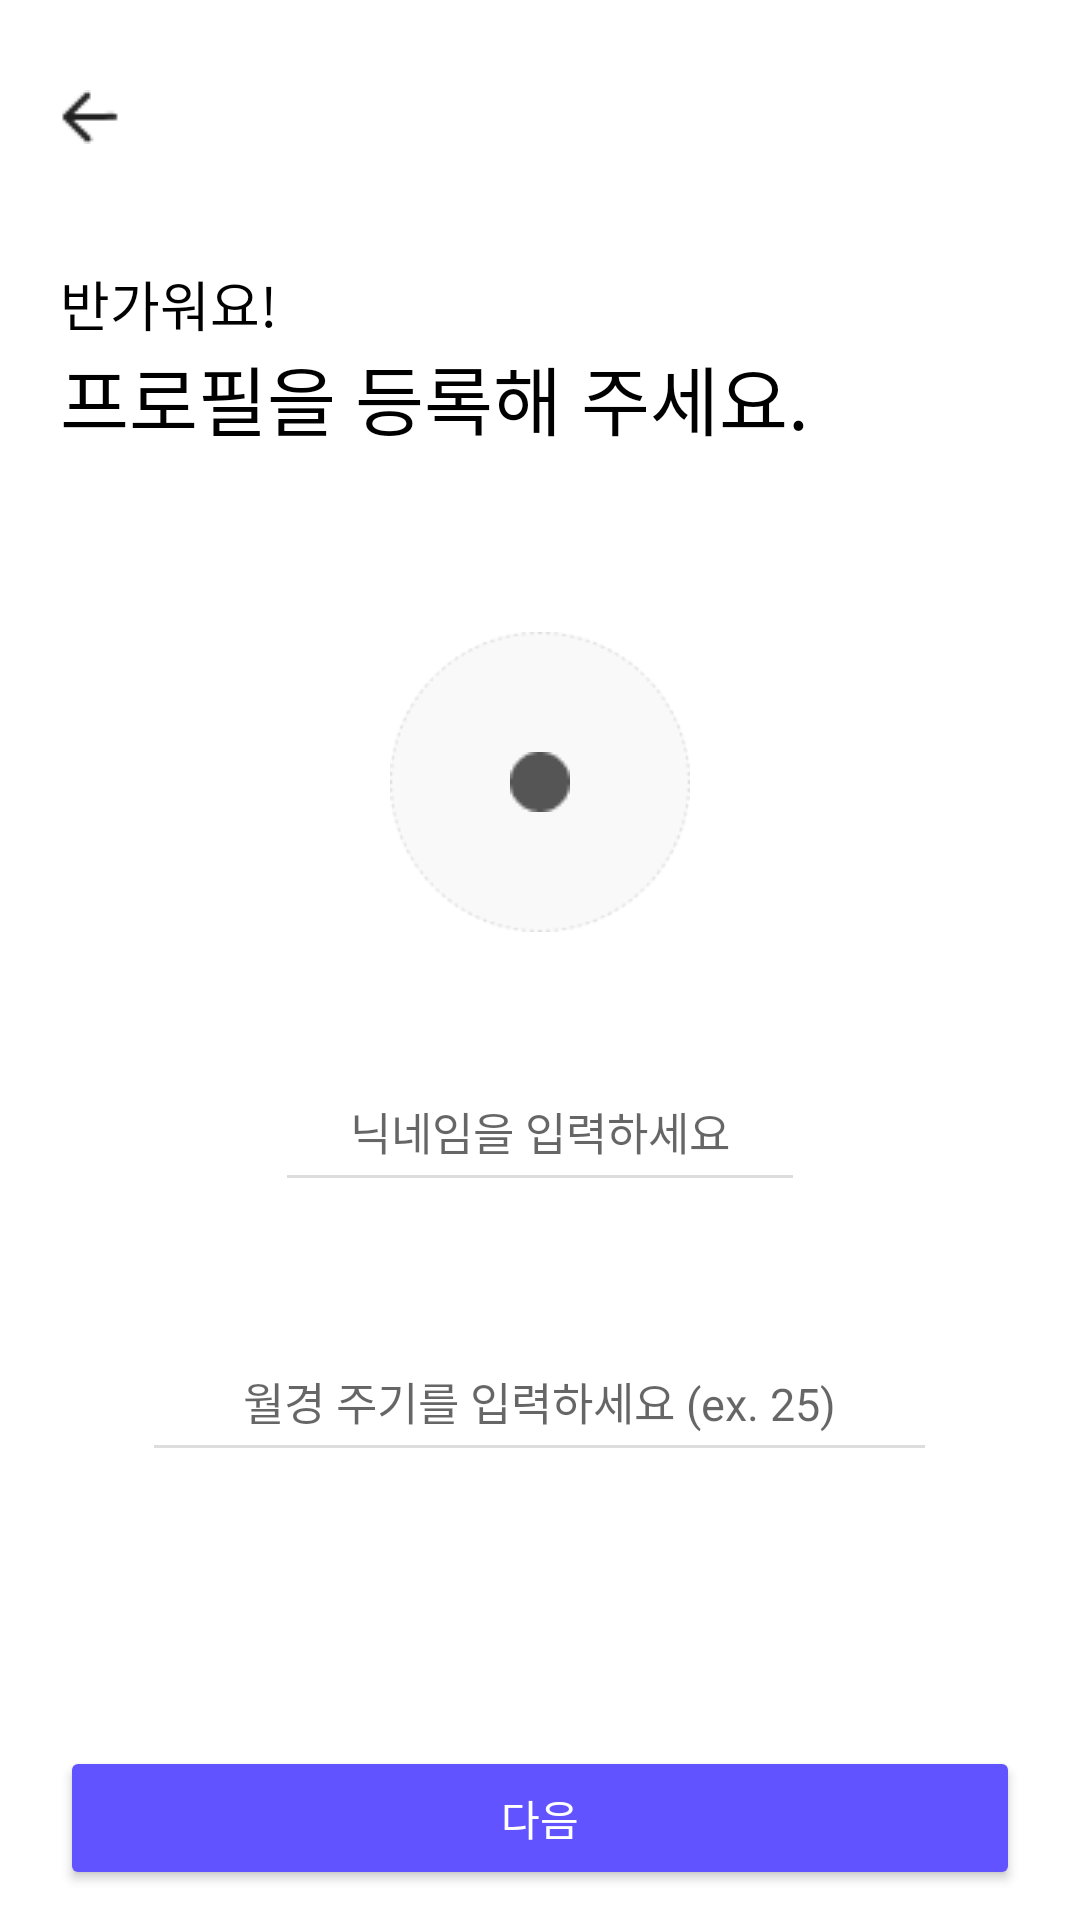

Screen size 1080*1920. Icon name, then its box in pixels as (x1, y1, x2, y2):
backward: (62, 90, 118, 144)
